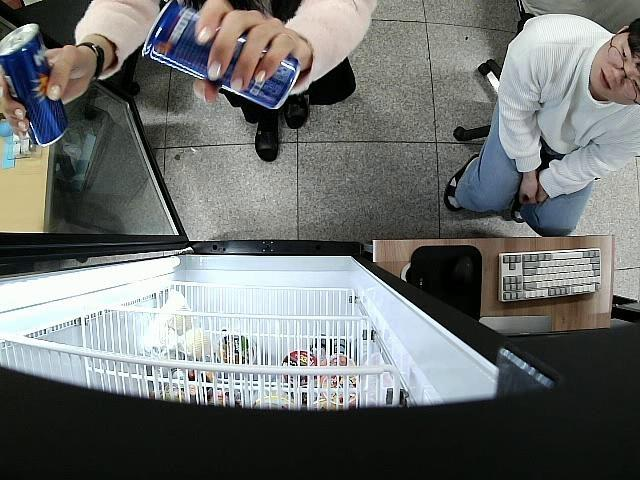16_hot6: (146, 2, 302, 108), (0, 23, 69, 150)
